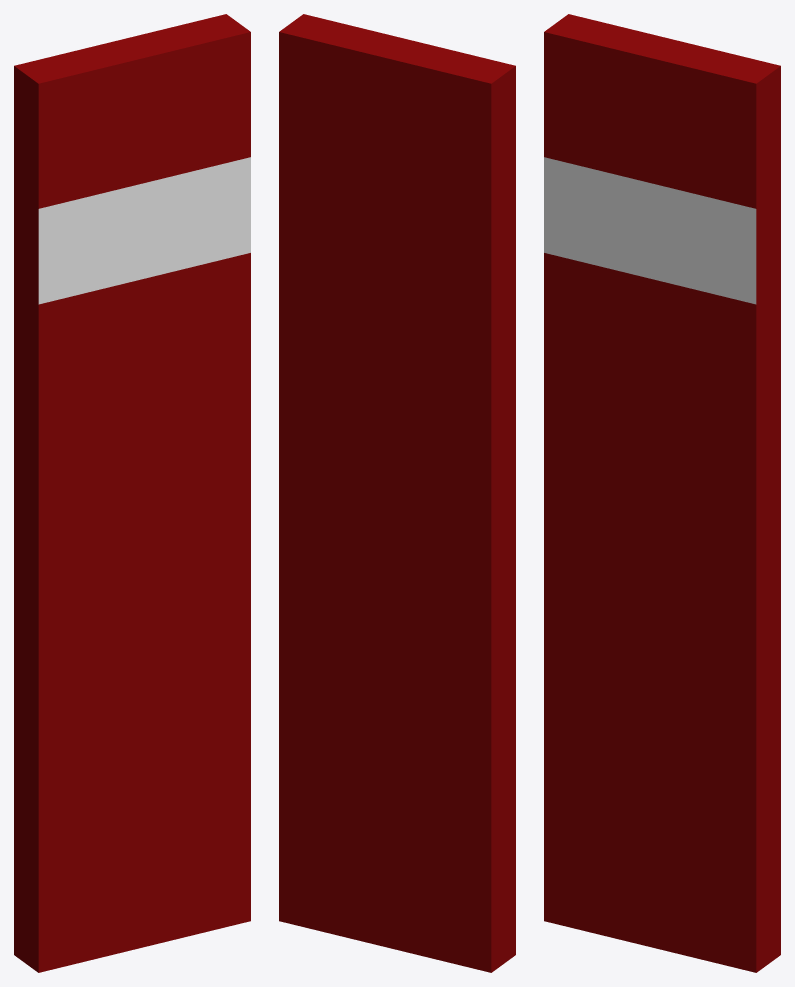
Rendered from paredNormal.fbx.
3 renders of one model, left to right at view 1: azimuth 30°, elevation 25°; view 2: azimuth 150°, elevation 25°; view 3: azimuth 330°, elevation 25°, orthographic.
Parts seen in each view (by area): view 1: Box001; view 2: Box001; view 3: Box001.
Part boxes in pixels (x1,y1,x2,y2): Box001: [14, 14, 250, 972]; Box001: [279, 14, 515, 972]; Box001: [544, 14, 780, 972].
Bounding box in the file's own units: 1 × 4 × 0.2.
